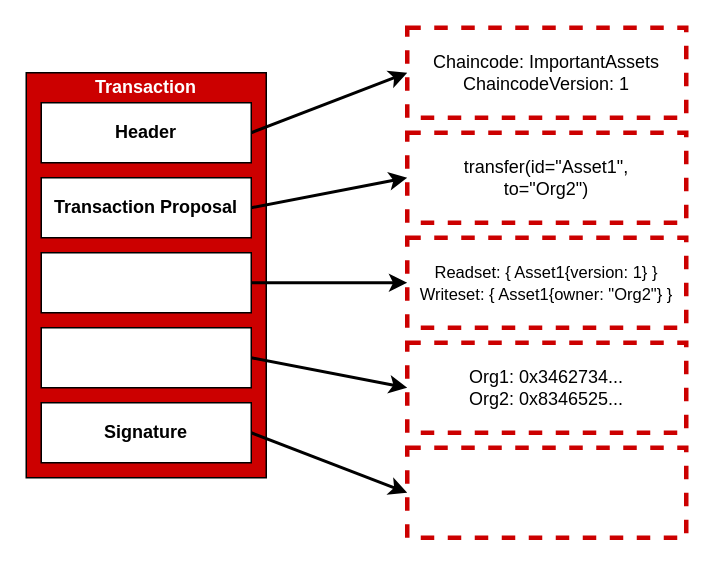
Image size: 714x566. Some labels were removed from this diagram. Here are the shapes that lost their labels. From the top down, the centre of each, then its label:
point (145, 282): Response
point (145, 357): Endorsements
point (546, 492): 0xcaffeebabe 650c9f2e...
